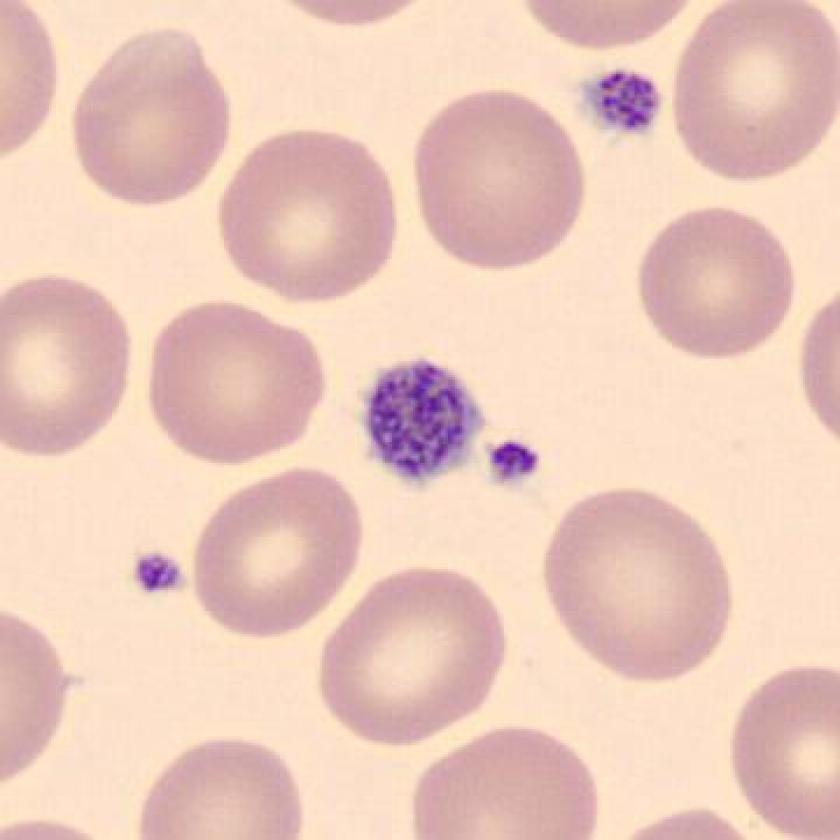platelets: (346, 346, 491, 489), (573, 47, 680, 154), (113, 531, 192, 616), (472, 427, 561, 501)
